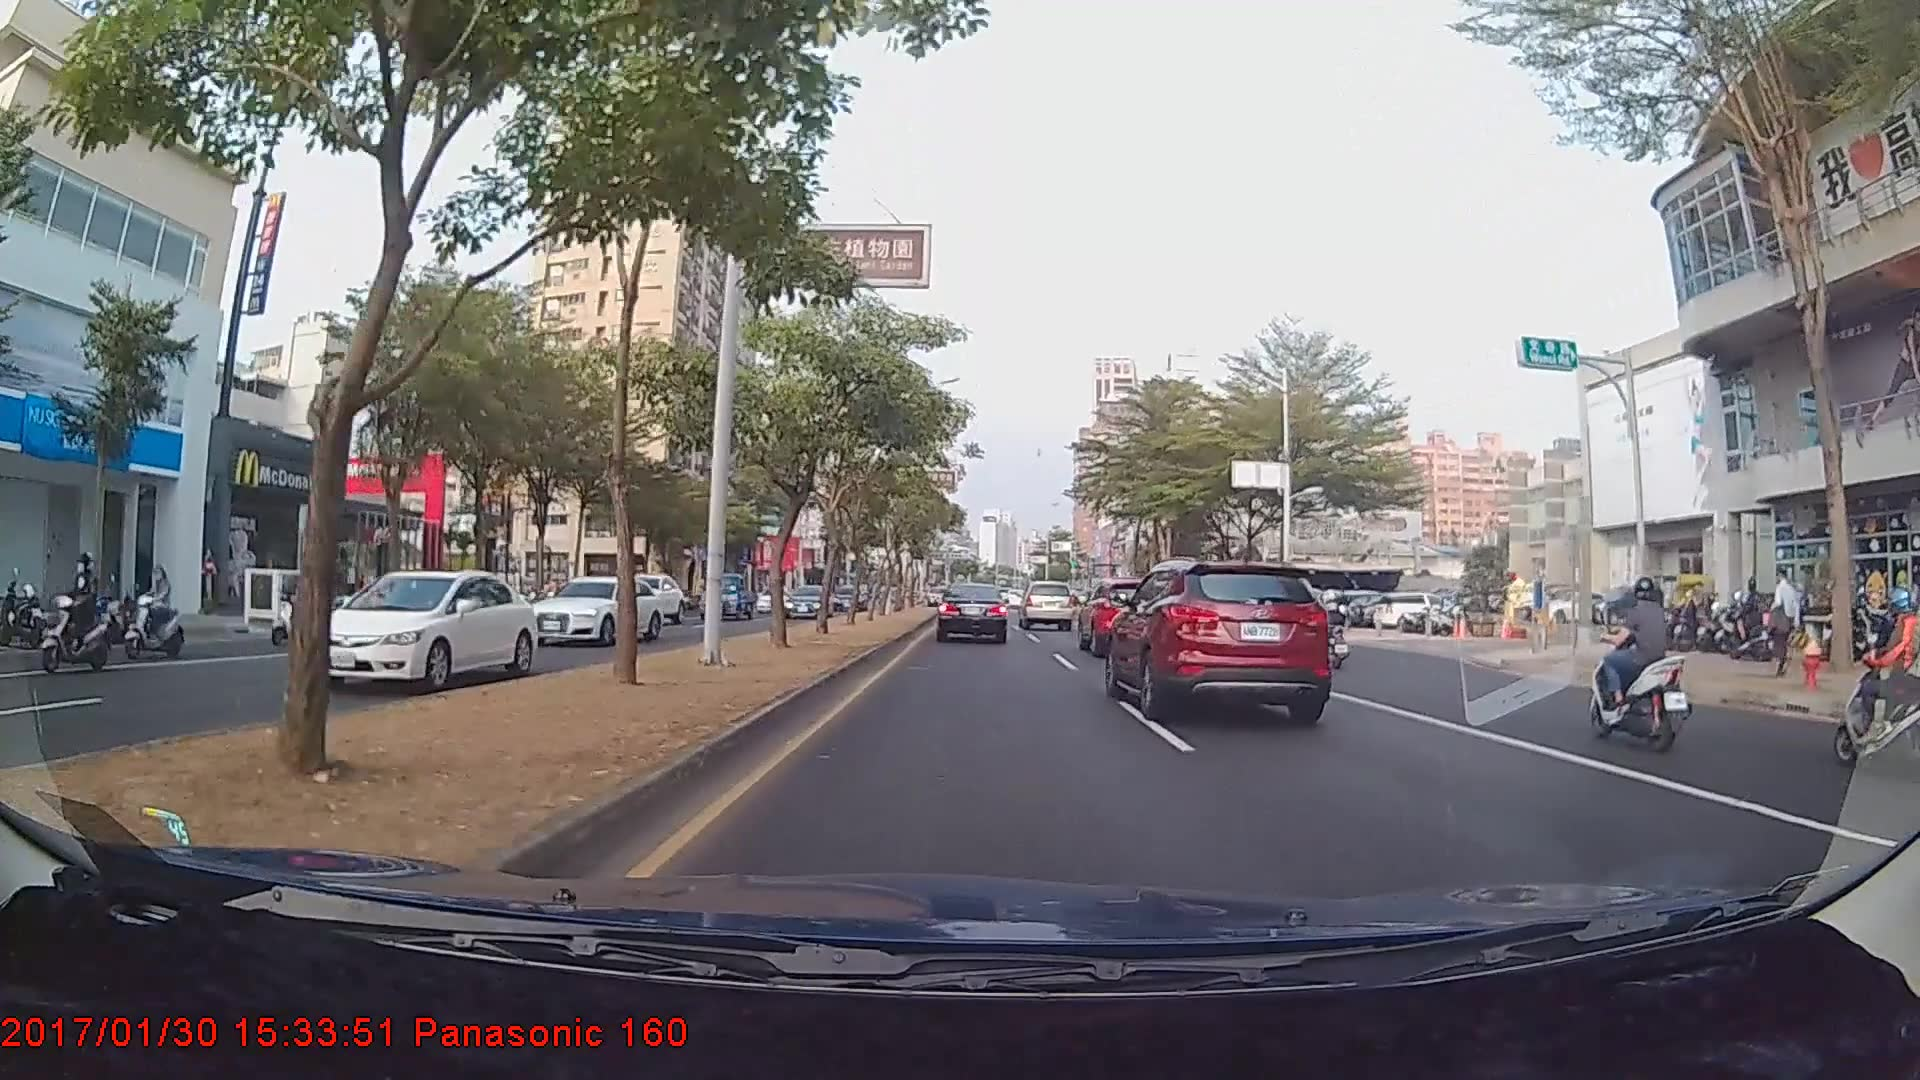pedestrian: (1770, 565, 1803, 675)
rider: (1576, 571, 1696, 752), (1825, 583, 1920, 775), (33, 549, 123, 675), (120, 562, 192, 656), (1300, 586, 1354, 666)
vehicle: (1108, 560, 1328, 716), (313, 566, 541, 692), (510, 576, 658, 647), (1075, 575, 1178, 654), (936, 581, 1009, 644), (1018, 579, 1078, 631), (699, 569, 755, 619), (783, 585, 831, 617)
